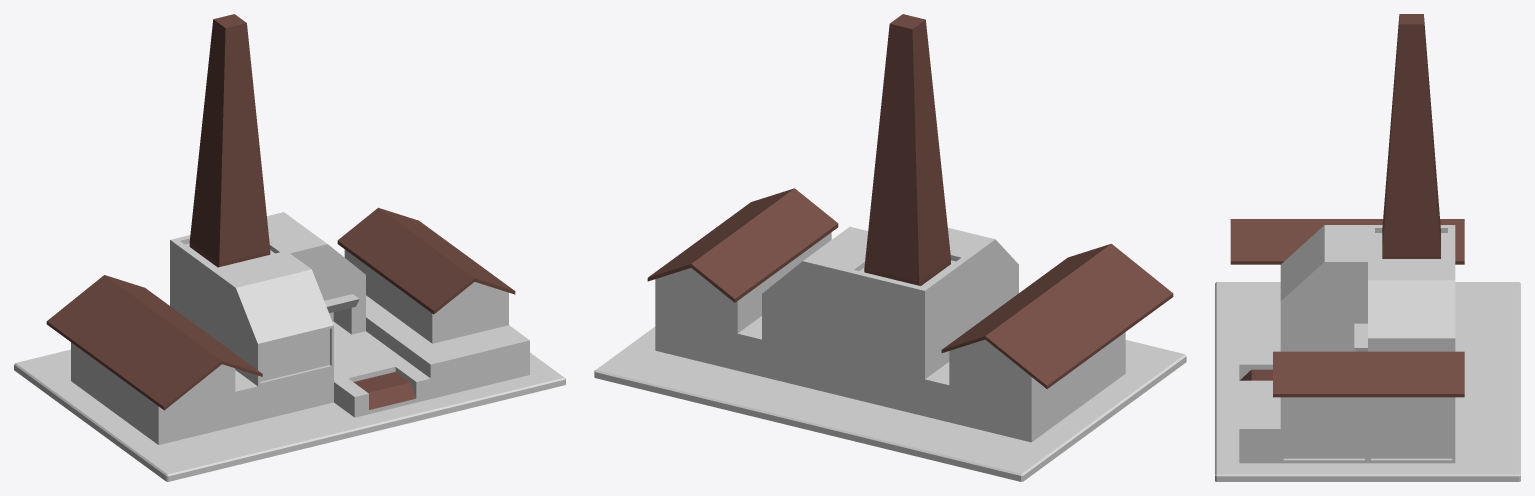
3 renders of one model, left to right at view 1: azimuth 30°, elevation 25°; view 2: azimuth 150°, elevation 25°; view 3: azimuth 270°, elevation 25°, orthographic. The views are drawn at different scales.
Visible parts, largest first — view 1: 3x2A; view 2: 3x2A; view 3: 3x2A.
Boxes of the visible parts, box(x1,y1,x2,y2) form: 3x2A: box(14, 14, 565, 481); 3x2A: box(594, 14, 1186, 481); 3x2A: box(1215, 14, 1520, 481).
Size of the model in its own units: 300 by 251 by 200.
